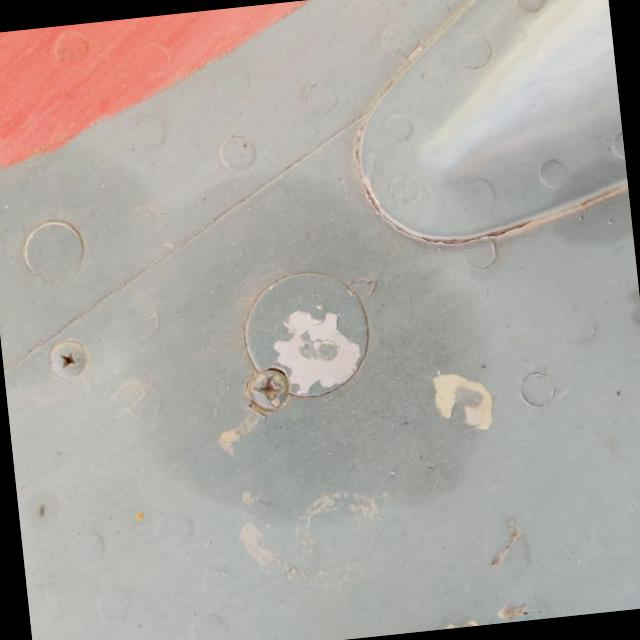paint-off: (282, 259, 430, 398), (339, 119, 460, 228)
